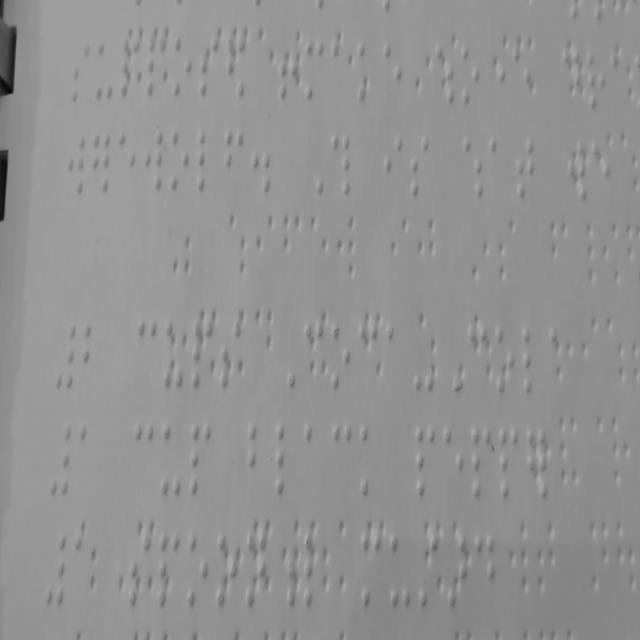braiile: (300, 525, 330, 620), (128, 516, 153, 619), (187, 410, 213, 504), (246, 414, 272, 507), (212, 520, 237, 614), (74, 520, 100, 610), (358, 418, 385, 504), (244, 518, 267, 618), (298, 420, 326, 502), (134, 306, 160, 394), (472, 523, 497, 614), (358, 523, 383, 613), (185, 525, 209, 616), (468, 418, 493, 505), (156, 522, 180, 612), (439, 420, 464, 506), (80, 416, 104, 504), (274, 414, 298, 502), (412, 418, 437, 502), (386, 523, 409, 614), (496, 420, 520, 506), (160, 313, 184, 398), (564, 125, 589, 206), (190, 310, 214, 393), (330, 421, 354, 504), (549, 317, 572, 403), (467, 317, 490, 402), (220, 121, 245, 198), (328, 314, 352, 394), (379, 32, 402, 114), (80, 317, 103, 399), (133, 417, 155, 502), (510, 40, 534, 117), (218, 310, 240, 394), (302, 313, 324, 397), (494, 320, 516, 404), (521, 319, 543, 403), (456, 38, 480, 114), (160, 413, 180, 504), (590, 128, 611, 210), (584, 44, 606, 122), (514, 128, 536, 206), (356, 320, 378, 396), (329, 36, 351, 111), (383, 317, 405, 392), (409, 130, 430, 208), (303, 31, 324, 108), (144, 29, 166, 102), (66, 132, 88, 204), (142, 127, 166, 193), (169, 123, 190, 198), (119, 30, 141, 101), (114, 125, 136, 196), (383, 130, 403, 208), (69, 40, 90, 114), (198, 29, 218, 104), (490, 132, 510, 206), (92, 32, 113, 102), (194, 125, 214, 198), (357, 40, 377, 112), (172, 30, 192, 101)
